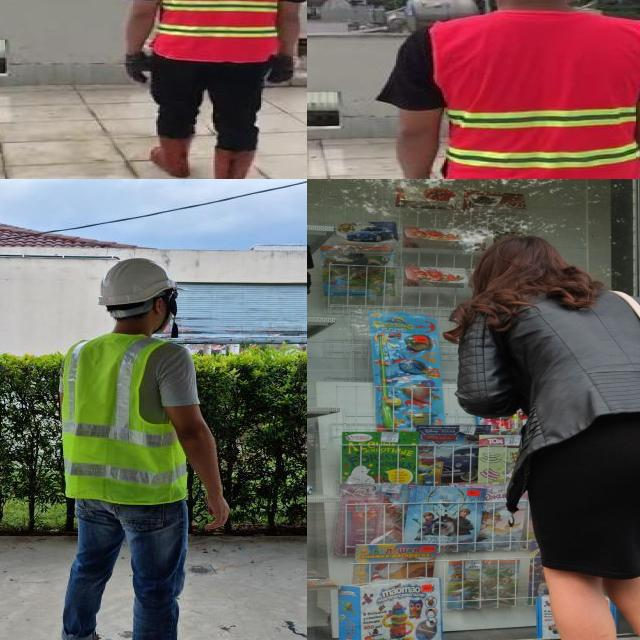No_Ear-Protection: (154, 296, 166, 316)
boots: (149, 131, 195, 178), (211, 147, 255, 179)
hand_glove: (266, 56, 296, 85), (124, 50, 151, 82)
head_helmet: (95, 254, 181, 317)
person: (17, 244, 264, 640), (389, 0, 640, 179), (119, 0, 307, 179)
vest: (433, 11, 640, 179), (59, 329, 194, 508), (156, 0, 287, 60)
